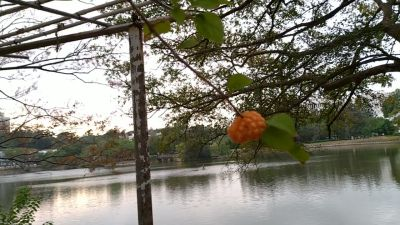eggs: (228, 108, 269, 146)
